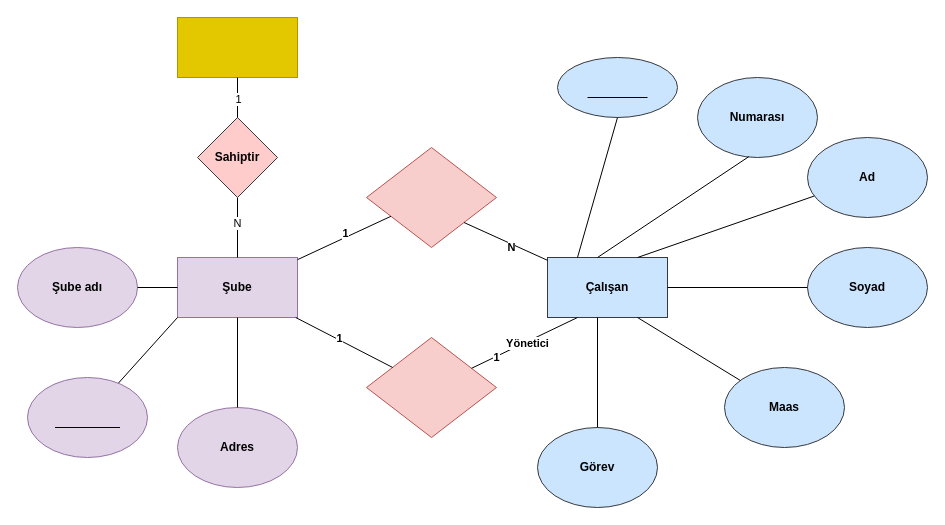
The diagram is 945 pixels wide and 525 high, and some of its shapes have lost their labels. Each missing label, with the centre of its shape:
Yönetir: (x=431, y=387)
Çalışan_ID: (x=617, y=87)
Çalşır: (x=431, y=197)
Şirket: (x=237, y=47)
Şube ID: (x=87, y=417)
